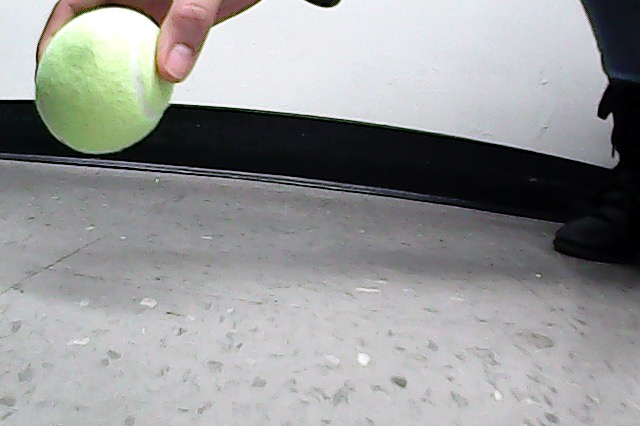ball: (35, 6, 175, 156)
